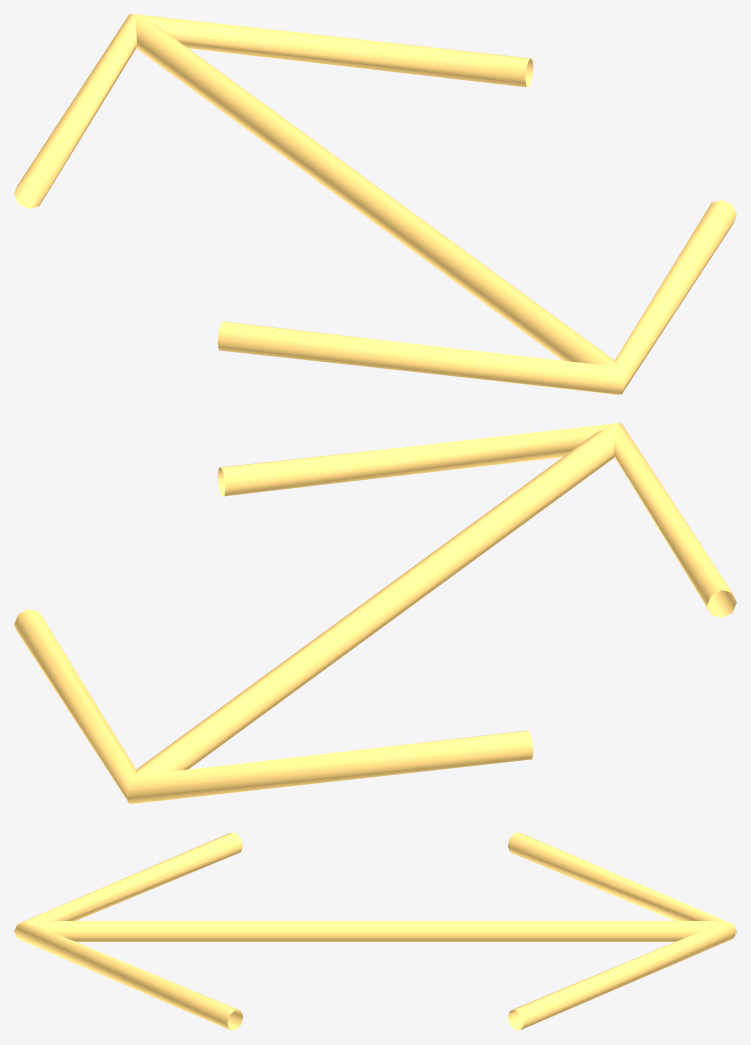
File: rune_0.glb
The picture shows the model from 3 angles, top to bottom: view 1: azimuth 30°, elevation 25°; view 2: azimuth 150°, elevation 25°; view 3: azimuth 270°, elevation 25°; orthographic projection. The views are drawn at different scales.
Parts seen in each view (by area): view 1: Rune_0; view 2: Rune_0; view 3: Rune_0.
Part boxes in pixels (x1,y1,x2,y2): Rune_0: [14, 14, 736, 394]; Rune_0: [14, 423, 736, 803]; Rune_0: [14, 832, 736, 1030].
Bounding box in the file's own units: 0.0174 × 0.0009 × 0.0289.
